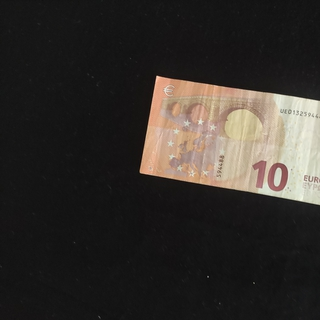10EUROBack: (139, 75, 320, 206)
